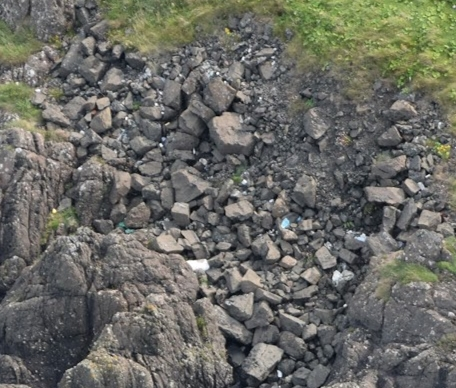white_in_green: (262, 200, 311, 245)
